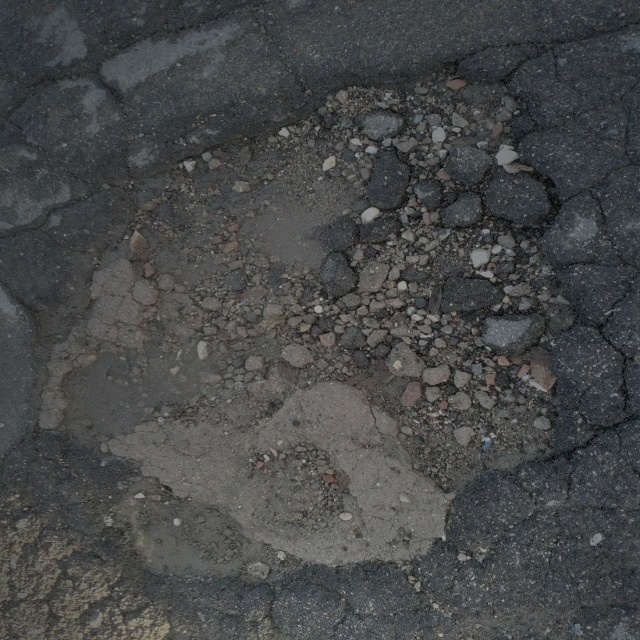pothole: (56, 89, 584, 550)
